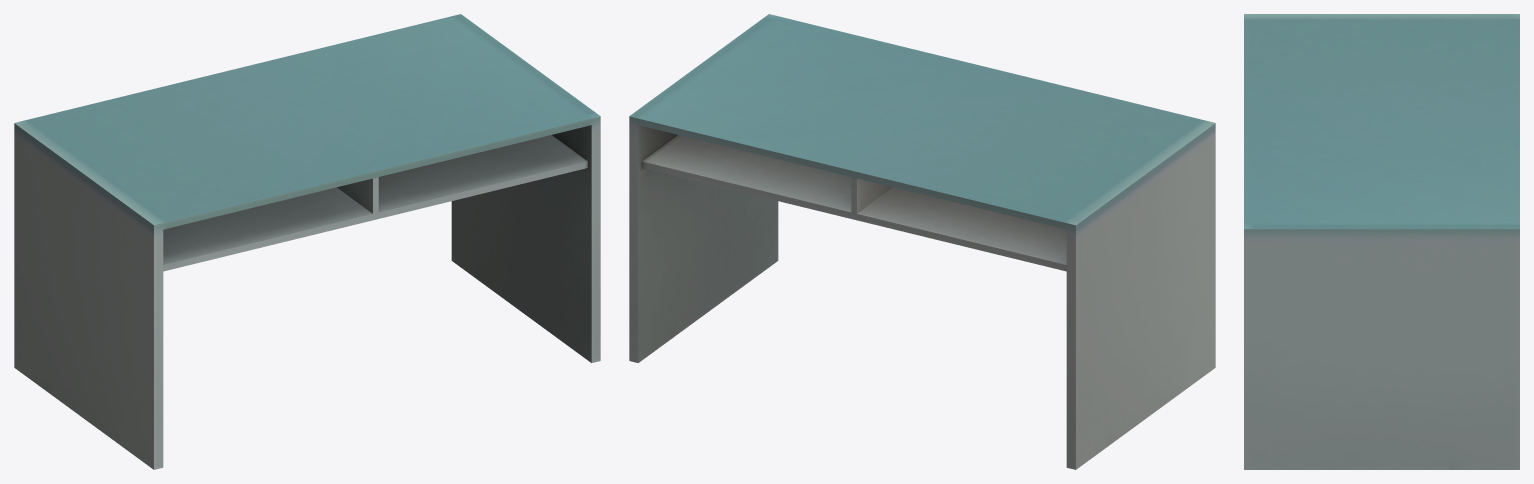
Rendered from 3Dguoji_HGDT_Zhuozi01_ljw.FBX.
3 views of the same model, side by side, from view 1: azimuth 30°, elevation 25°; view 2: azimuth 150°, elevation 25°; view 3: azimuth 270°, elevation 25° (orthographic).
Parts seen in each view (by area): view 1: 3Dguoji_HGDT_Zhuozi01_ljw; view 2: 3Dguoji_HGDT_Zhuozi01_ljw; view 3: 3Dguoji_HGDT_Zhuozi01_ljw.
Part boxes in pixels (bbox=[...]): 3Dguoji_HGDT_Zhuozi01_ljw: bbox=[14, 14, 600, 469]; 3Dguoji_HGDT_Zhuozi01_ljw: bbox=[629, 14, 1215, 469]; 3Dguoji_HGDT_Zhuozi01_ljw: bbox=[1244, 14, 1519, 469].
Bounding box in the file's own units: 1.62 × 0.8472 × 0.8779.
